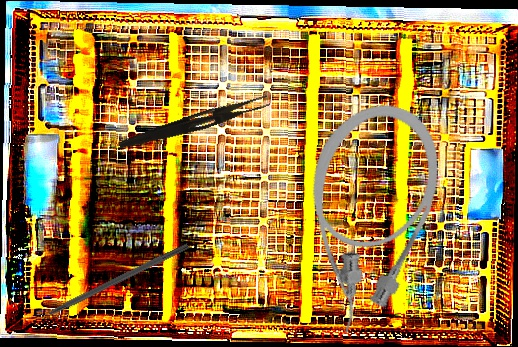Cannula: (269, 88, 459, 347)
Dressing Forceps: (117, 89, 271, 157)
Hook Surgical: (21, 241, 190, 330)
